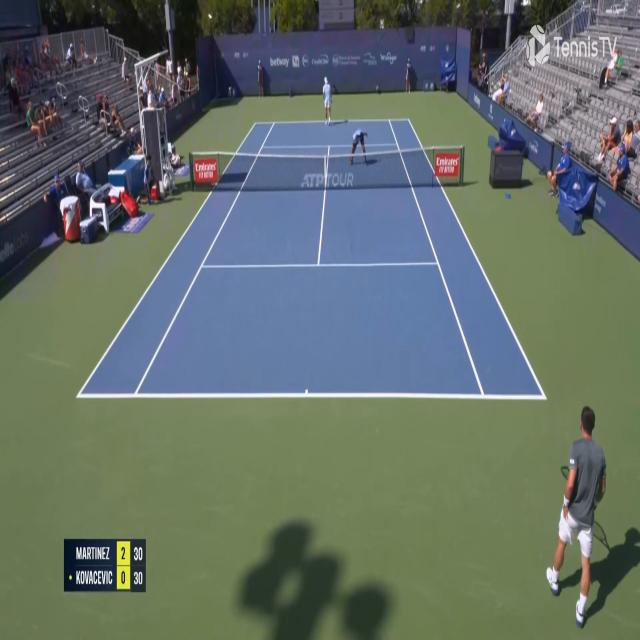tennis-player: (544, 402, 612, 633), (322, 75, 335, 126)
